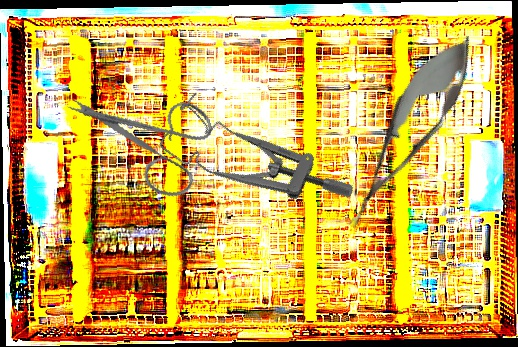Iris Scissors: (63, 63, 227, 219)
Micro Scissor: (326, 20, 491, 244)
Speculum: (153, 75, 358, 255)
